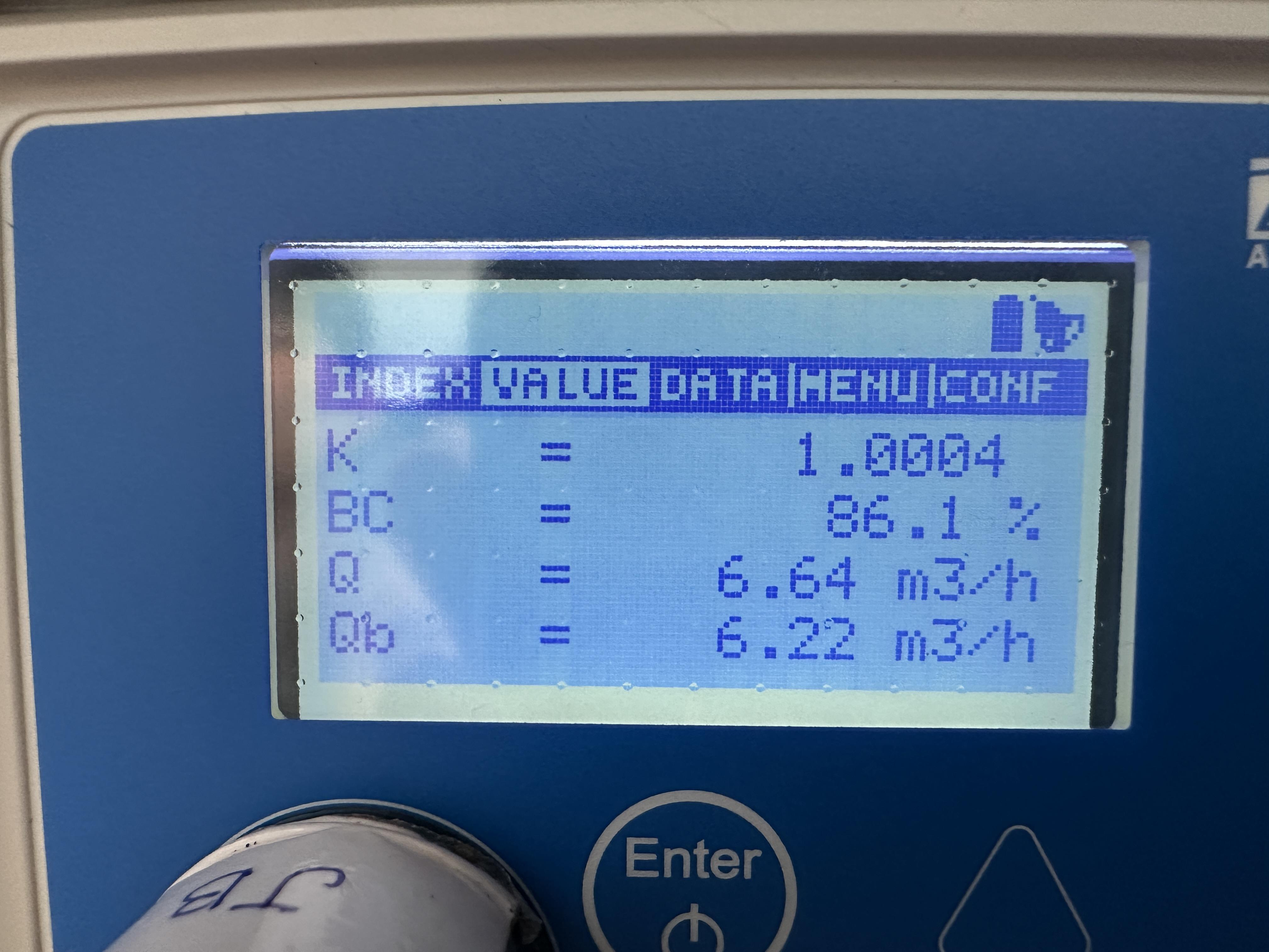digital_screen: (291, 277, 1109, 727)
